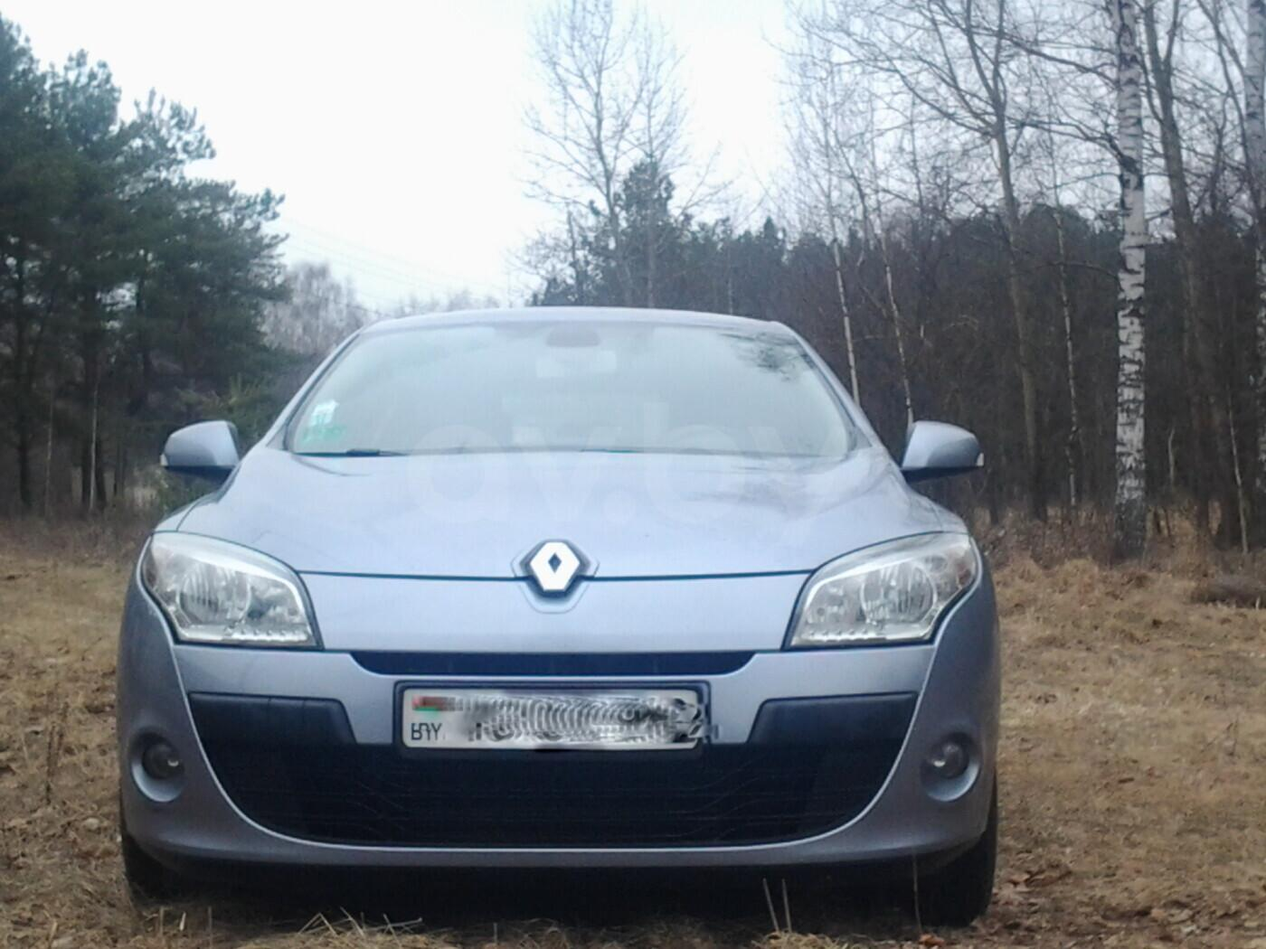Megane_2008-2014: (107, 300, 1039, 923)
